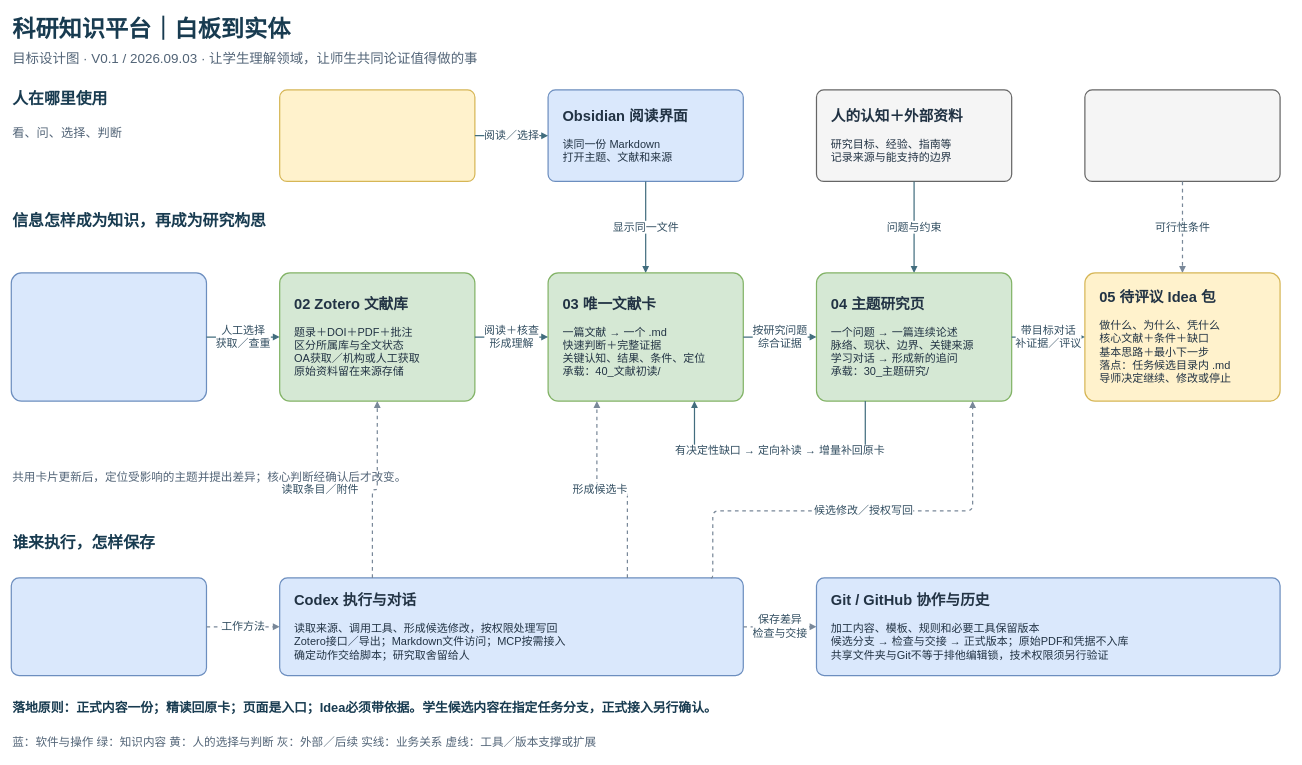
The diagram is 1302 pixels wide and 765 high, and some of its shapes have lost their labels. The shapes that lost their labels are listed below. From the top down, each one's box as (x1, y1, x2, y2) in pixels, then its label:
(279, 89, 475, 182): 导师与学生 学生：学习、整理、核查 导师：目标、取舍、科研判断 也可直接向Codex发起任务
(1084, 89, 1280, 182): 项目与数据清单 后续扩展：指向真实资源 第一版先写已知条件与缺口
(10, 272, 207, 401): 01 信息入口 dailyinfo / Inoreader / RSS 按期刊汇总新论文简介 人决定收录、暂存或跳过 产物：选中文献清单
(10, 577, 207, 676): 模板＋规则＋Skill 模板：输出结构 规则：证据与权限边界 Skill：阅读、综合与核查方法
